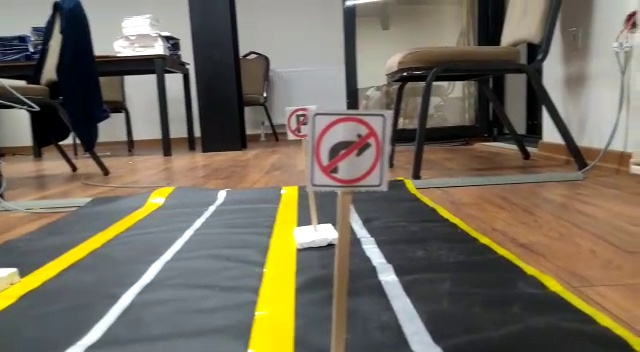park_yapilmaz: (287, 107, 311, 140)
saga_donulmez: (315, 117, 385, 189)
